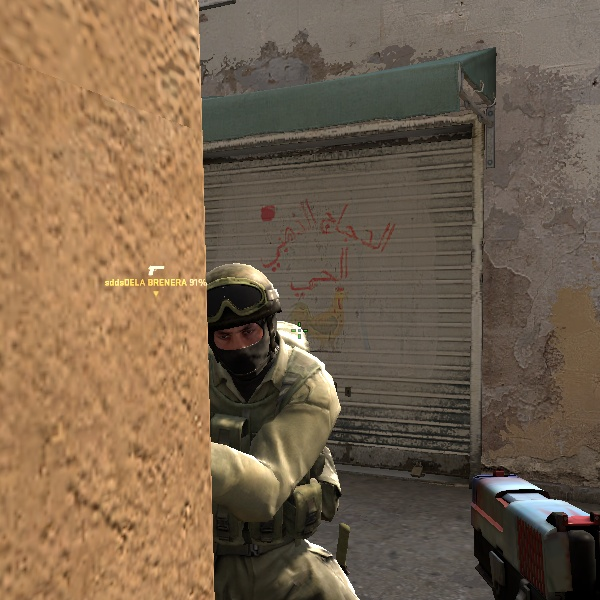ct_body: (156, 279, 360, 597)
ct_head: (199, 274, 297, 386)
